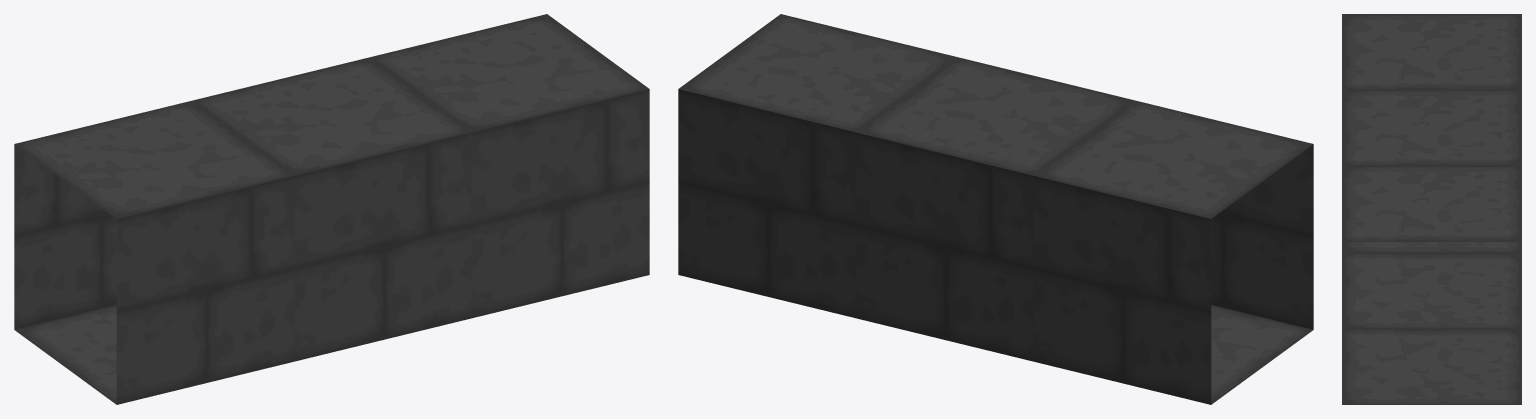
Rendered from hall.obj.
The picture shows the model from 3 angles, left to right: view 1: azimuth 30°, elevation 25°; view 2: azimuth 150°, elevation 25°; view 3: azimuth 270°, elevation 25°; orthographic projection. The views are drawn at different scales.
Visible parts, largest first — view 1: Cube.006, Cube.002, Cube.005; view 2: Cube.006, Cube.002, Cube.005; view 3: Cube.002, Cube.005, Cube.006.
Part boxes in pixels (bbox=[...]): Cube.006: bbox=[14, 100, 294, 404]; Cube.002: bbox=[192, 57, 471, 361]; Cube.005: bbox=[370, 14, 649, 318]; Cube.006: bbox=[1033, 100, 1313, 404]; Cube.002: bbox=[856, 57, 1135, 361]; Cube.005: bbox=[678, 14, 957, 318]; Cube.002: bbox=[1342, 90, 1521, 328]; Cube.005: bbox=[1342, 166, 1521, 404]; Cube.006: bbox=[1342, 14, 1521, 252].
Bounding box in the file's own units: 192 × 64 × 64.
Materials: 2 (2 with a texture image).
